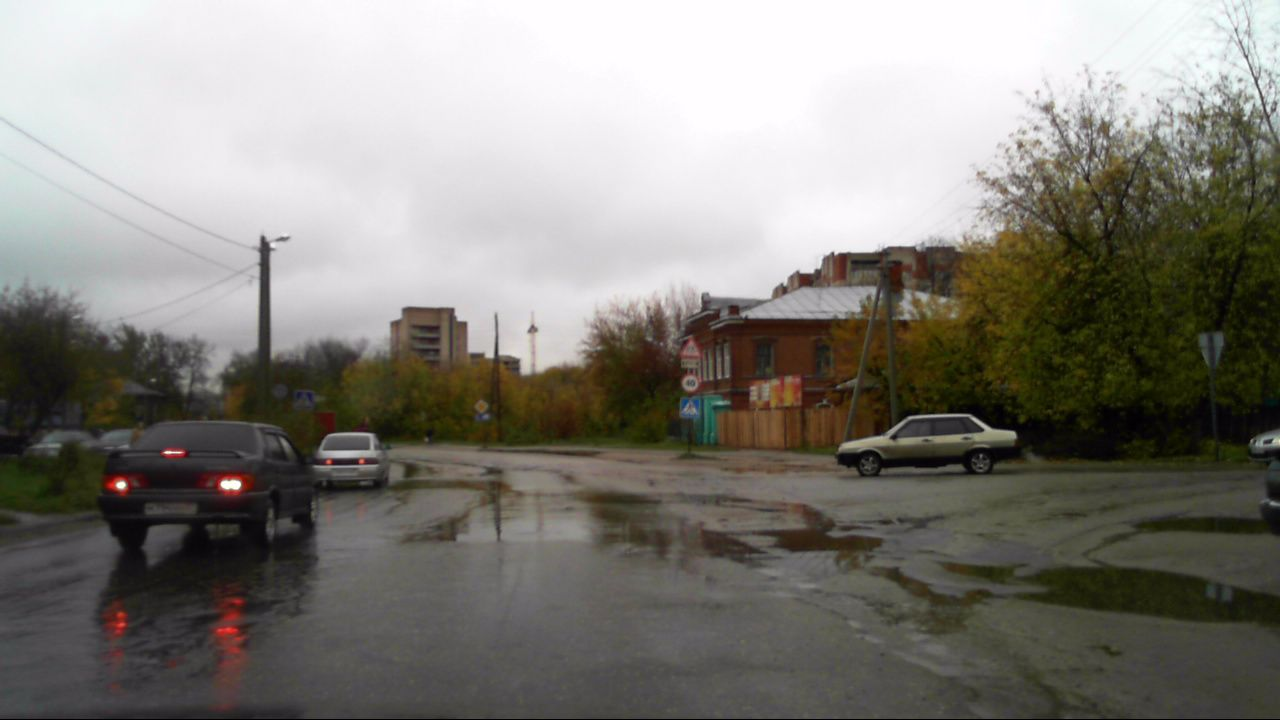speed_warning_40: (682, 375, 700, 392)
